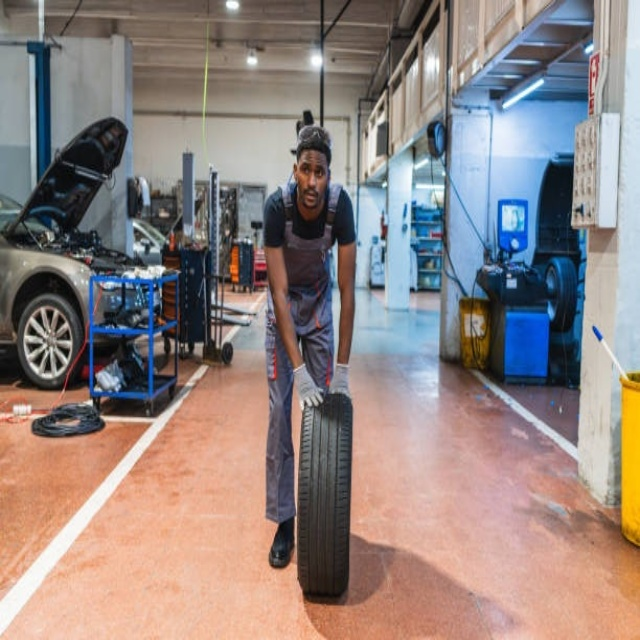Guantes: (294, 363, 323, 411), (329, 362, 350, 398)
Sin_gafas: (298, 157, 325, 182)
Sin_mascara: (301, 187, 319, 207)
